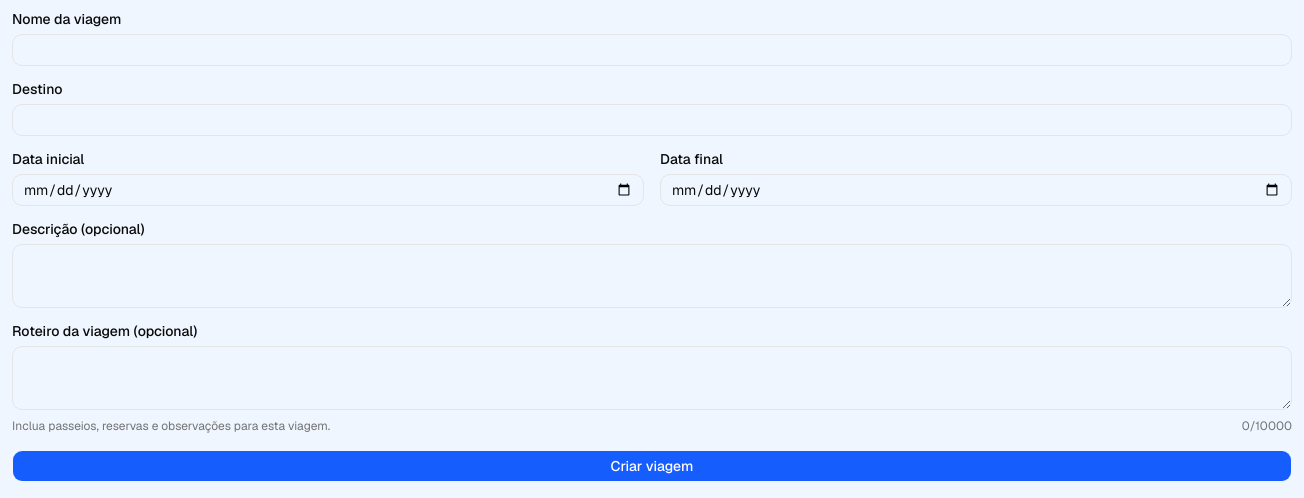
Scenario: TripForm › updates the visible character counter as the itinerary is typed
The image size is (1304, 498).
Type "Dia 1: chegada" into the text box labelled "Roteiro da viagem (opcional)" at x=652, y=378, box [12,346,1292,410]
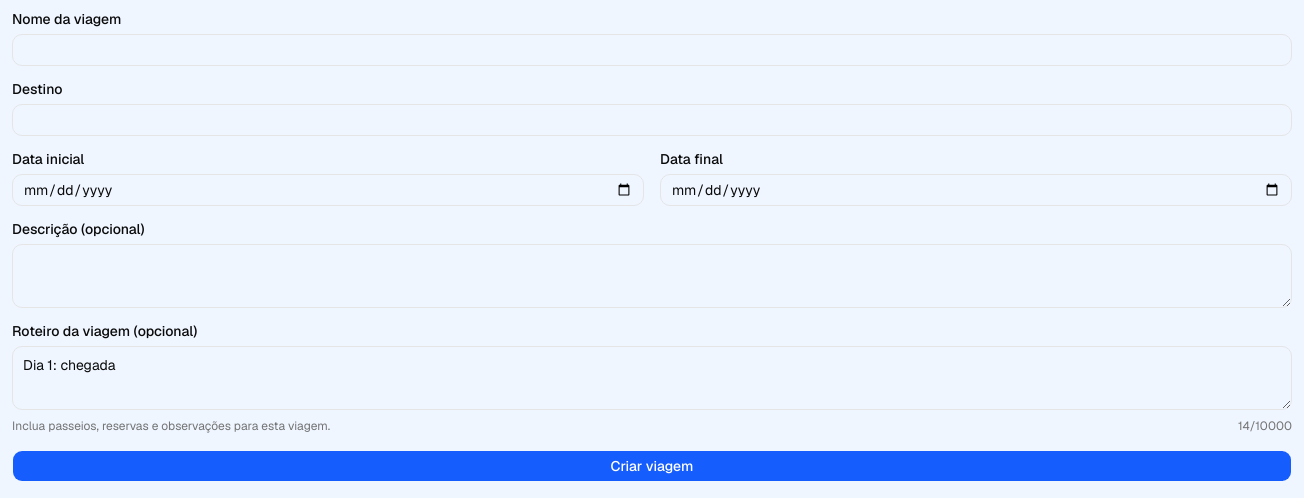
Expected: the text "14/10000" is shown, [1238,418,1292,434]
